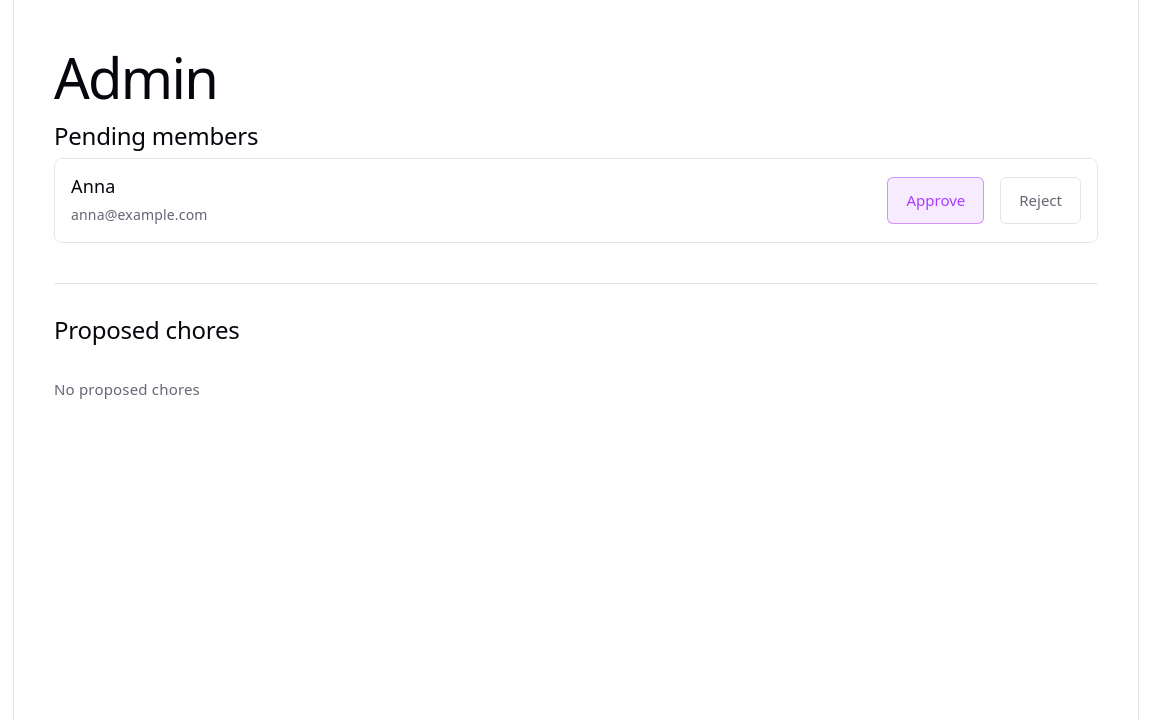
Test: AdminPage › shows an error message on a failed request
Expected: the text "Anna" is shown, [71,174,116,198]
Click the button "Approve": (936, 201) [888,178,984,224]
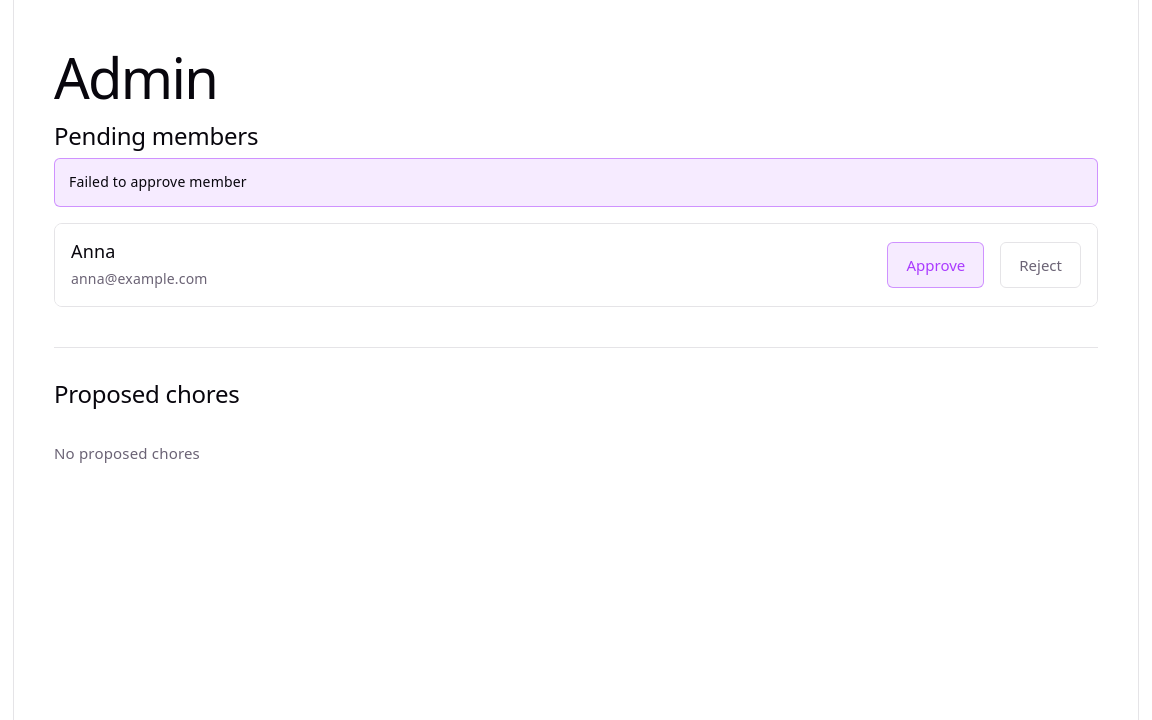
Expected: the message "Failed to approve member" is shown, [54,158,1098,206]
